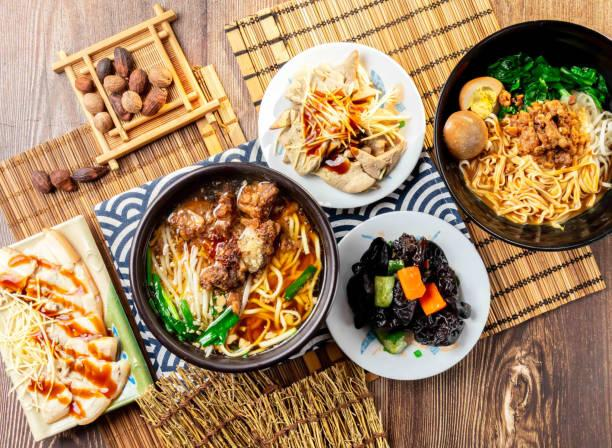Braised Crucian Carp: (126, 163, 334, 372), (433, 20, 611, 248), (1, 213, 153, 439), (256, 41, 422, 209), (327, 209, 489, 380)
